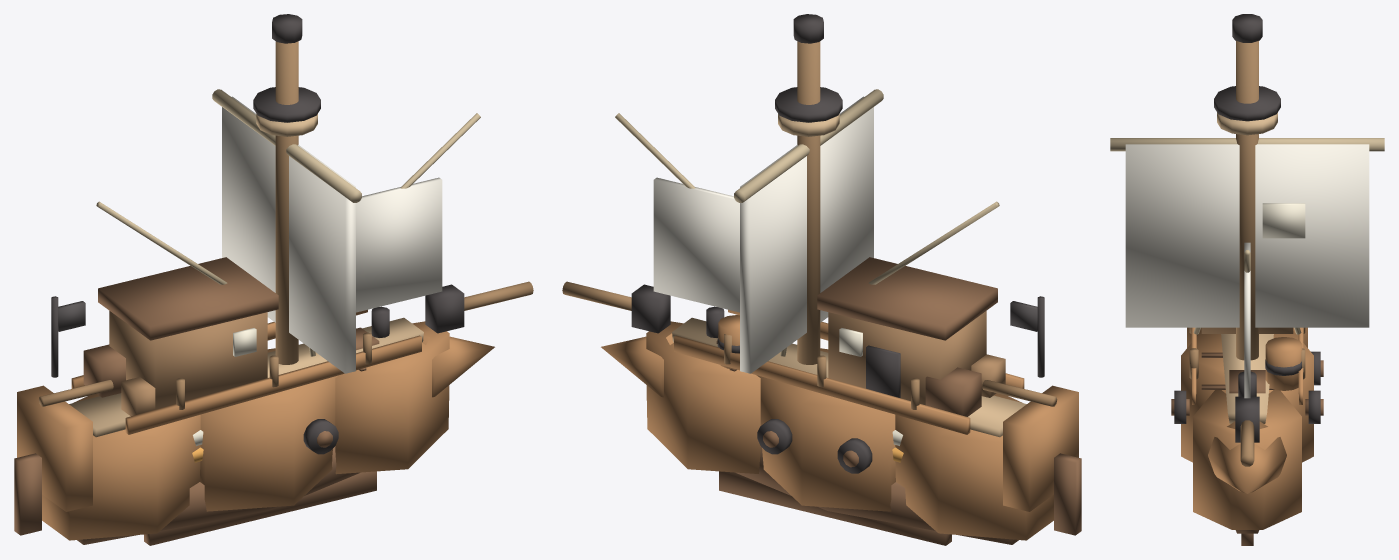
The model's file is Jack_Ship.fbx.
3 views of the same model, side by side, from view 1: azimuth 30°, elevation 25°; view 2: azimuth 150°, elevation 25°; view 3: azimuth 270°, elevation 25° (orthographic).
Visible parts, largest first — view 1: Jack_Ship; view 2: Jack_Ship; view 3: Jack_Ship.
Part boxes in pixels (x1,y1,x2,y2): Jack_Ship: (14,14,533,545); Jack_Ship: (562,14,1081,545); Jack_Ship: (1110,14,1384,545).
Size of the model in its own units: 1.92 by 1.75 by 0.9.
